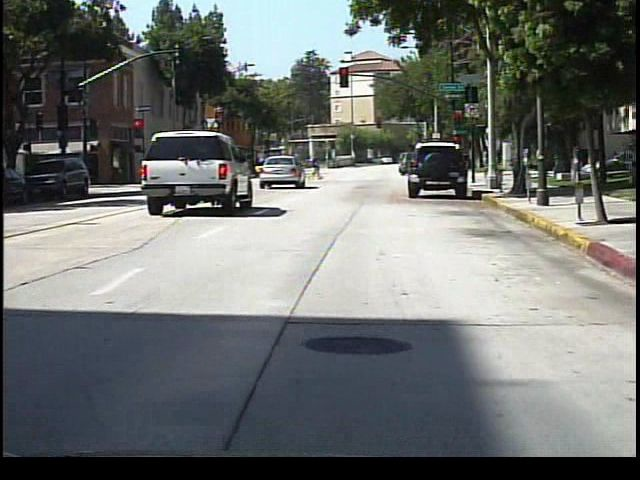person: (535, 140, 553, 183), (461, 153, 477, 183), (313, 155, 327, 184)
